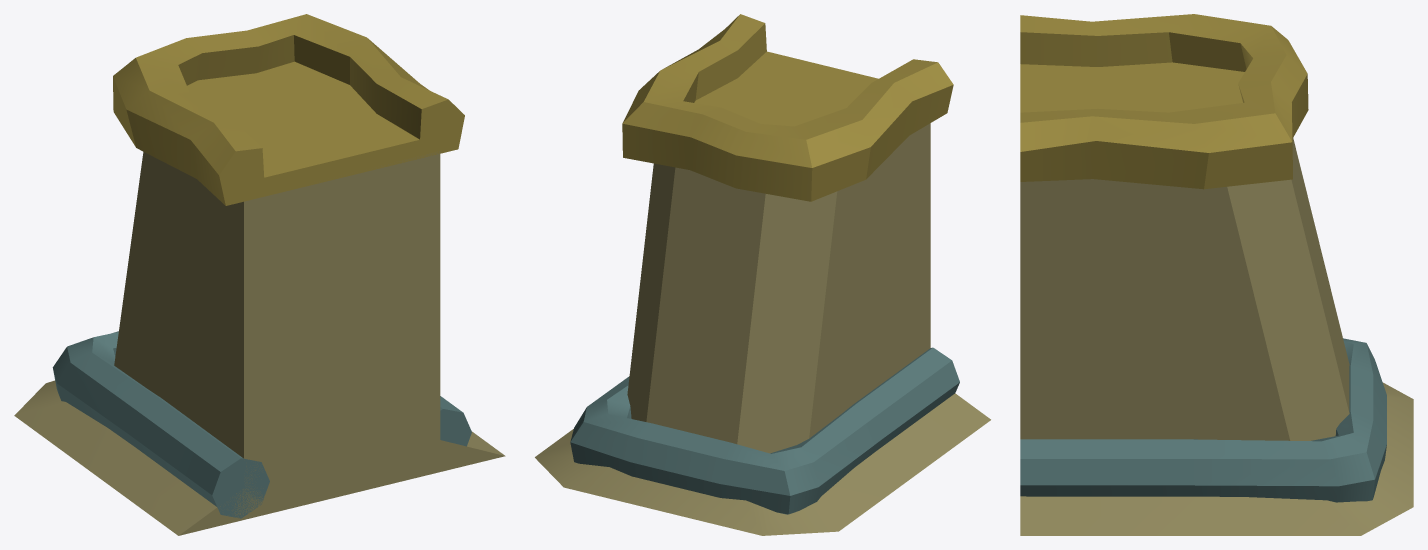
Rendered from Int_14_Wall_Vert_Mid_End_Down.fbx.
The picture shows the model from 3 angles, left to right: view 1: azimuth 30°, elevation 25°; view 2: azimuth 150°, elevation 25°; view 3: azimuth 270°, elevation 25°; orthographic projection. The views are drawn at different scales.
Visible parts, largest first — view 1: Int_14_Wall_Vert_Mid_End_Down1; view 2: Int_14_Wall_Vert_Mid_End_Down1; view 3: Int_14_Wall_Vert_Mid_End_Down1.
Part boxes in pixels (bbox=[...]): Int_14_Wall_Vert_Mid_End_Down1: bbox=[14, 14, 505, 535]; Int_14_Wall_Vert_Mid_End_Down1: bbox=[535, 14, 990, 535]; Int_14_Wall_Vert_Mid_End_Down1: bbox=[1020, 14, 1413, 535].
Bounding box in the file's own units: 0.9966 × 1.08 × 1.
